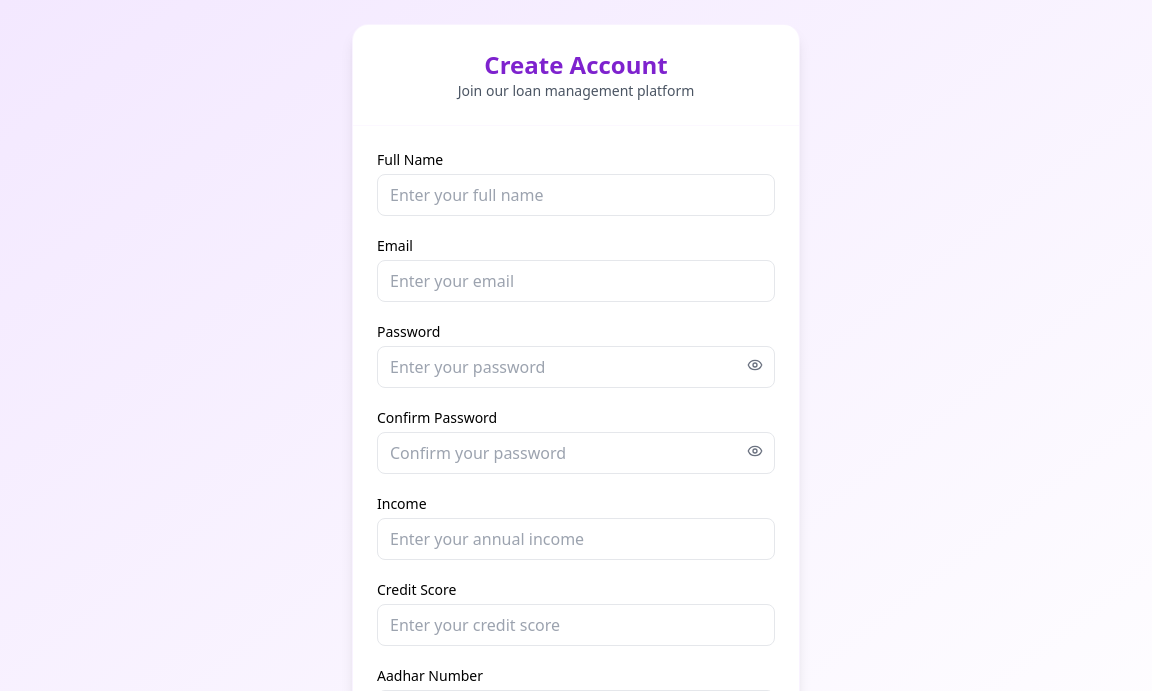
Scenario: UserRegistrationForm.vue › shows invalid email error
Type "Aom Tester" into the field with id "name".
click(576, 195); type("Aom Tester")  # box [377,174,775,216]
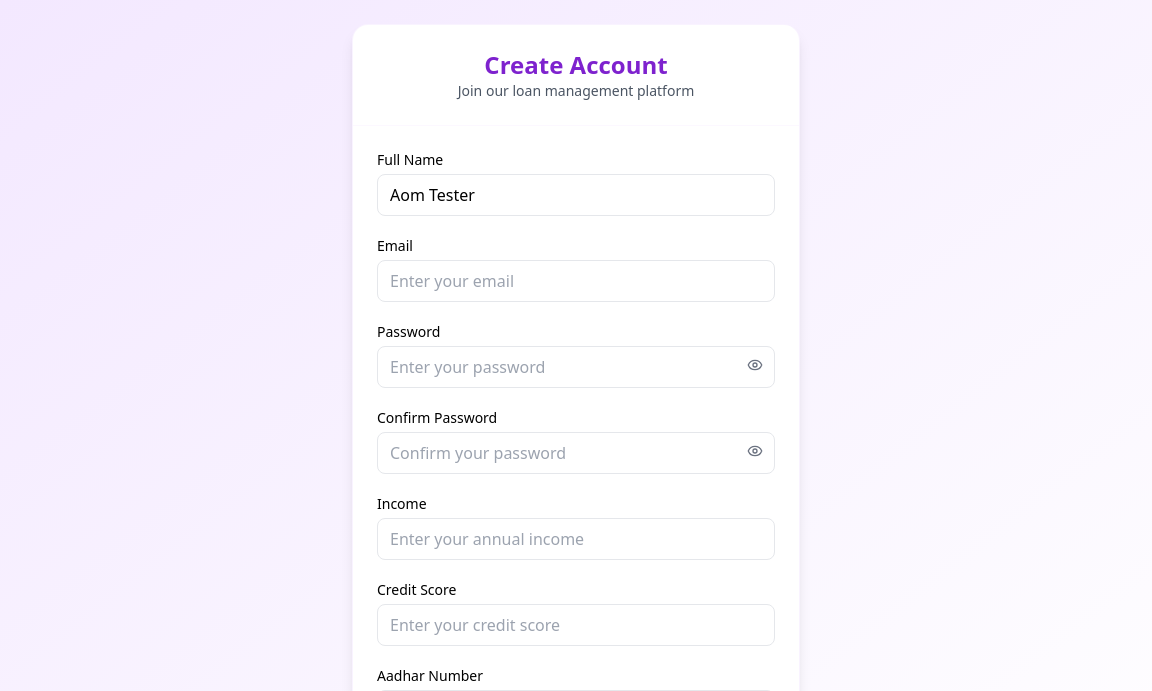
Type "invalid-email" into the field with id "email".
click(576, 281); type("invalid-email")  # box [377,260,775,302]
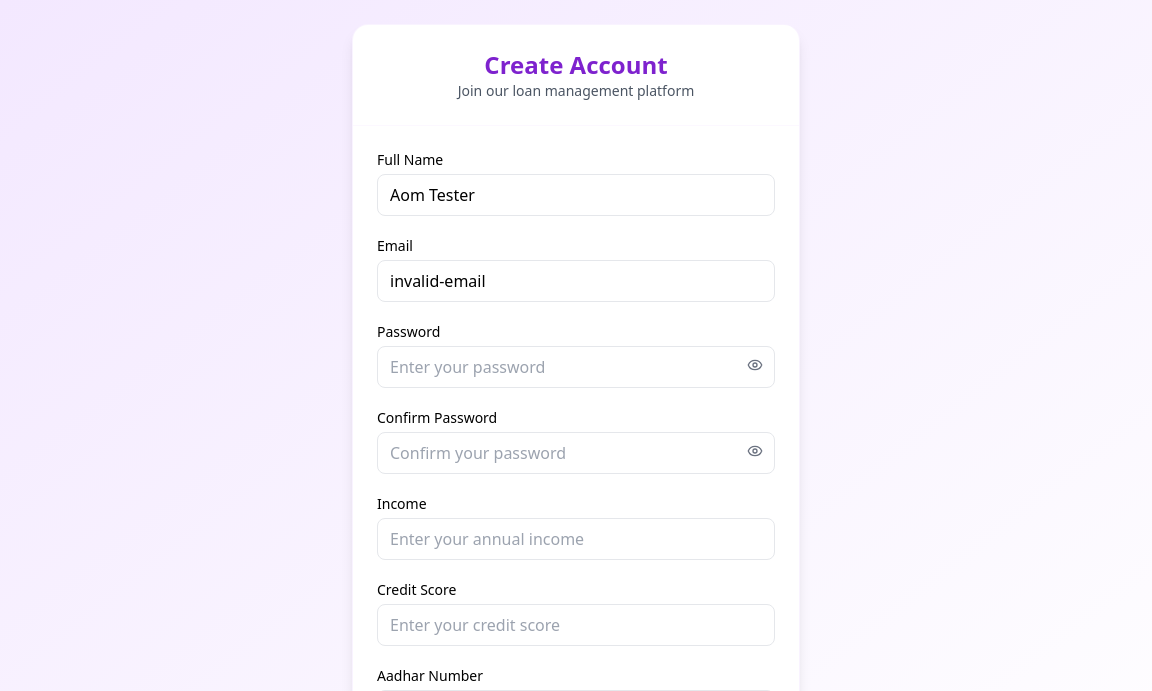
Type "ValidPass1!" into the password field labelled "Password".
click(576, 367); type("ValidPass1!")  # box [377,346,775,388]
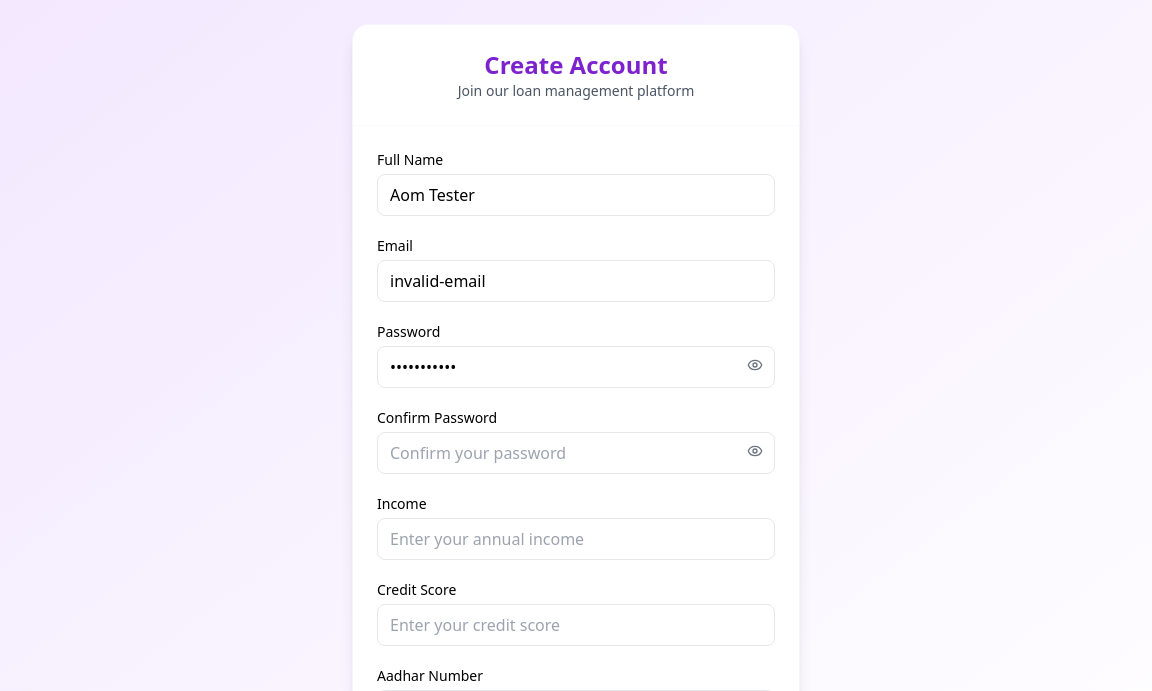
Type "ValidPass1!" into the password field with id "confirmPassword".
click(576, 453); type("ValidPass1!")  # box [377,432,775,474]
(page scrolled)
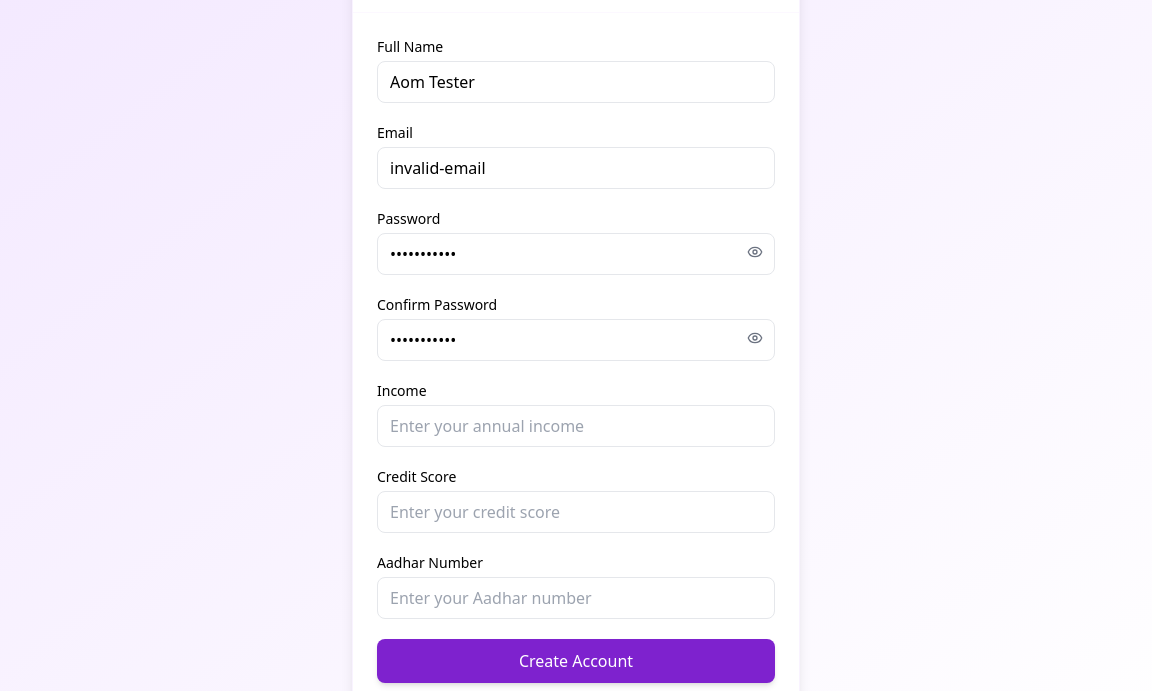
Submit the form, box [377,37,775,683]
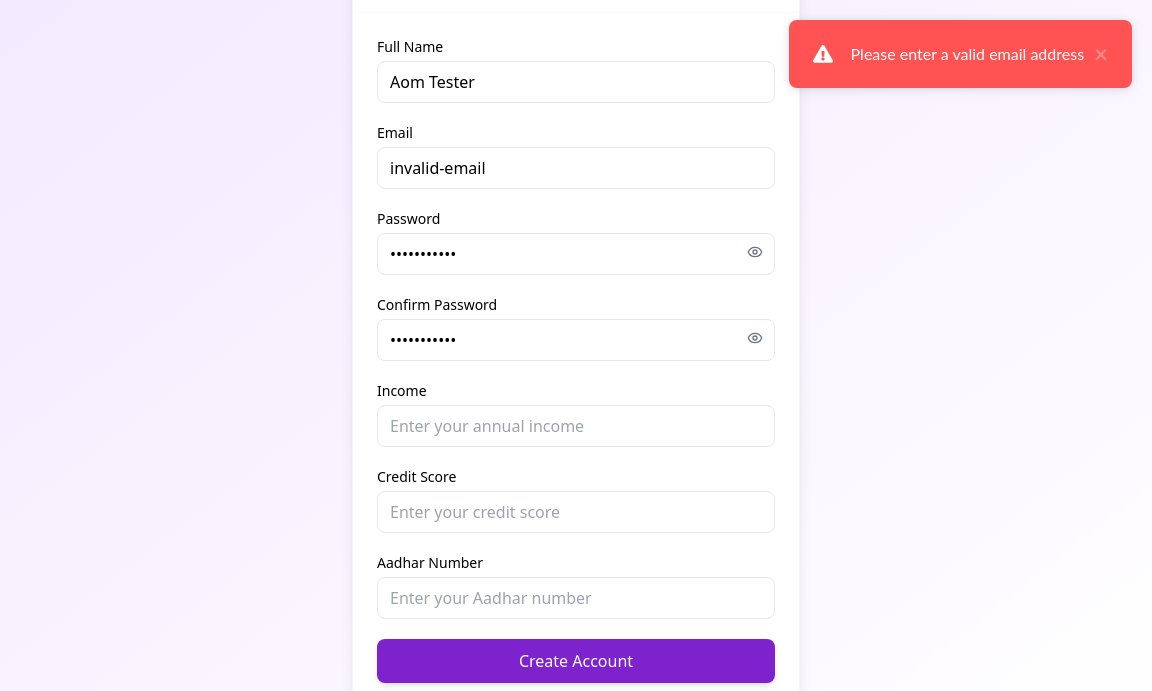
expect the text "Please enter a valid email address" is shown: met, box [851,42,1084,66]
